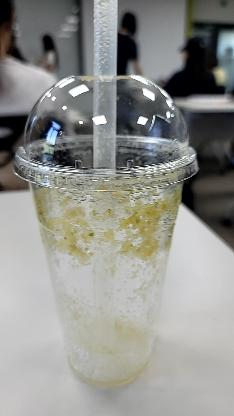Plastic Cup: (16, 73, 201, 409), (15, 72, 199, 190)
